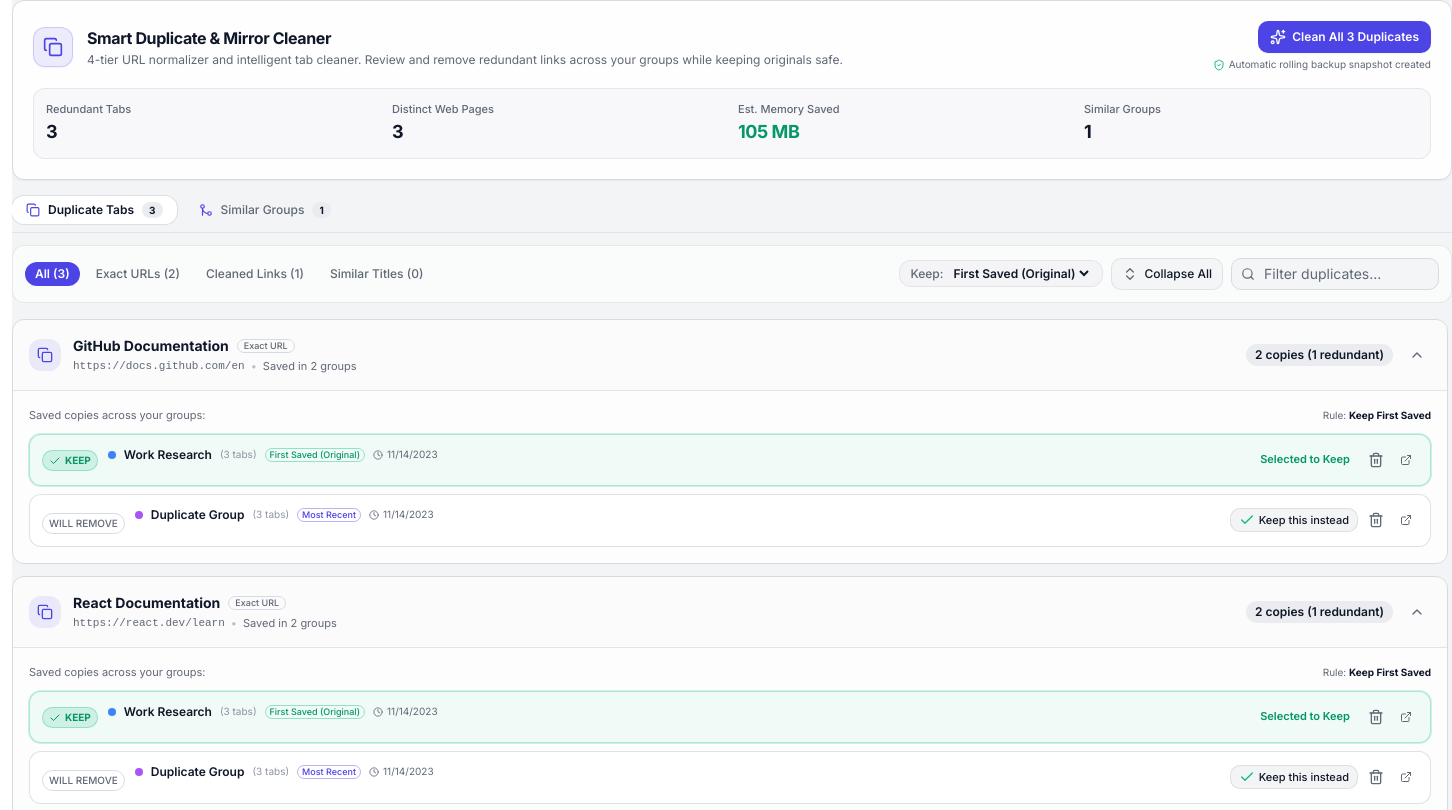
<DuplicateCleanerTool /> Power Tool Component Suite › removes a specific single duplicate instance
Click the 1st button titled "Delete only this tab copy immediately" at (1376, 460), box [1364,448,1388,472]
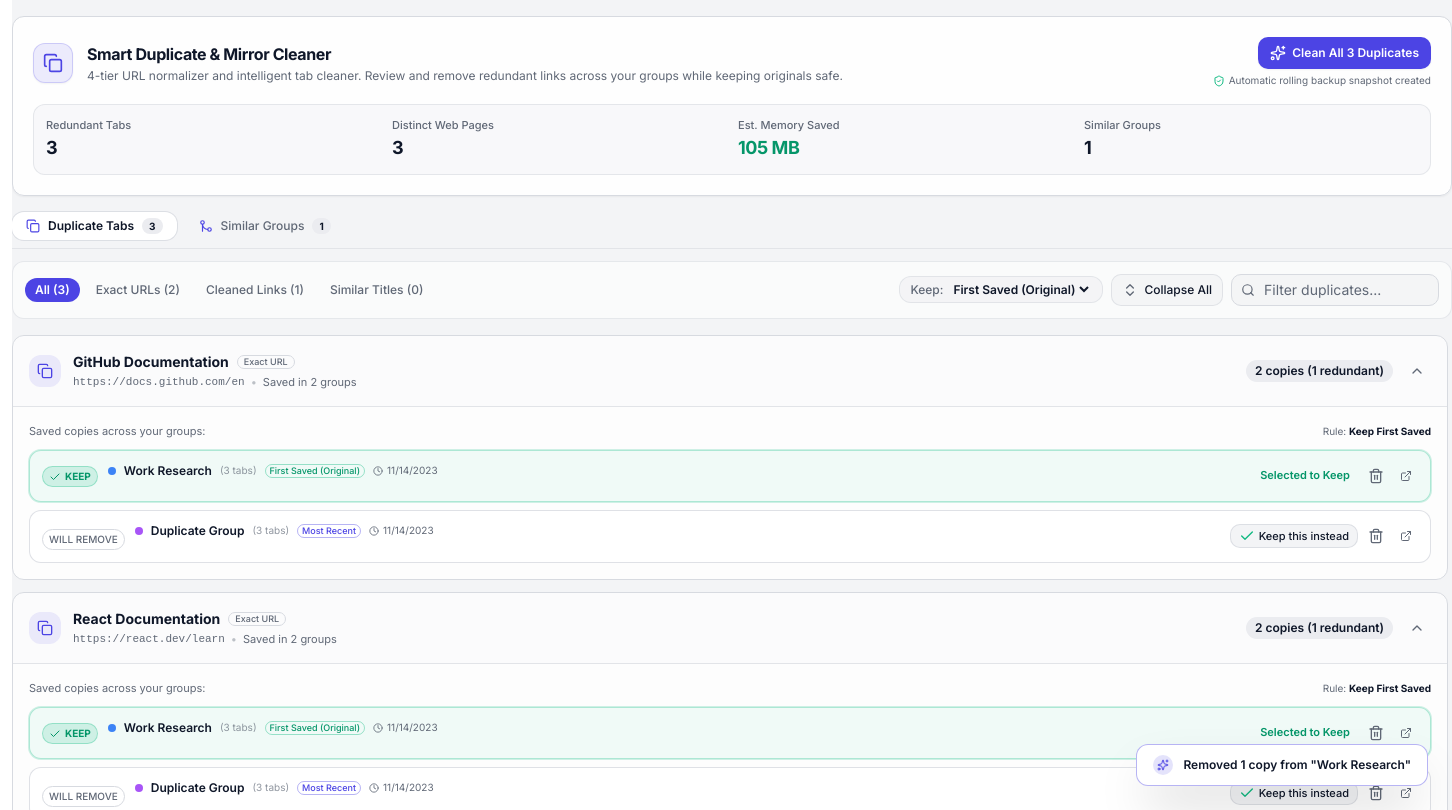
Check: the text "Removed 1 copy from \"Work Research\"" is shown, box [1183,757,1411,773]
